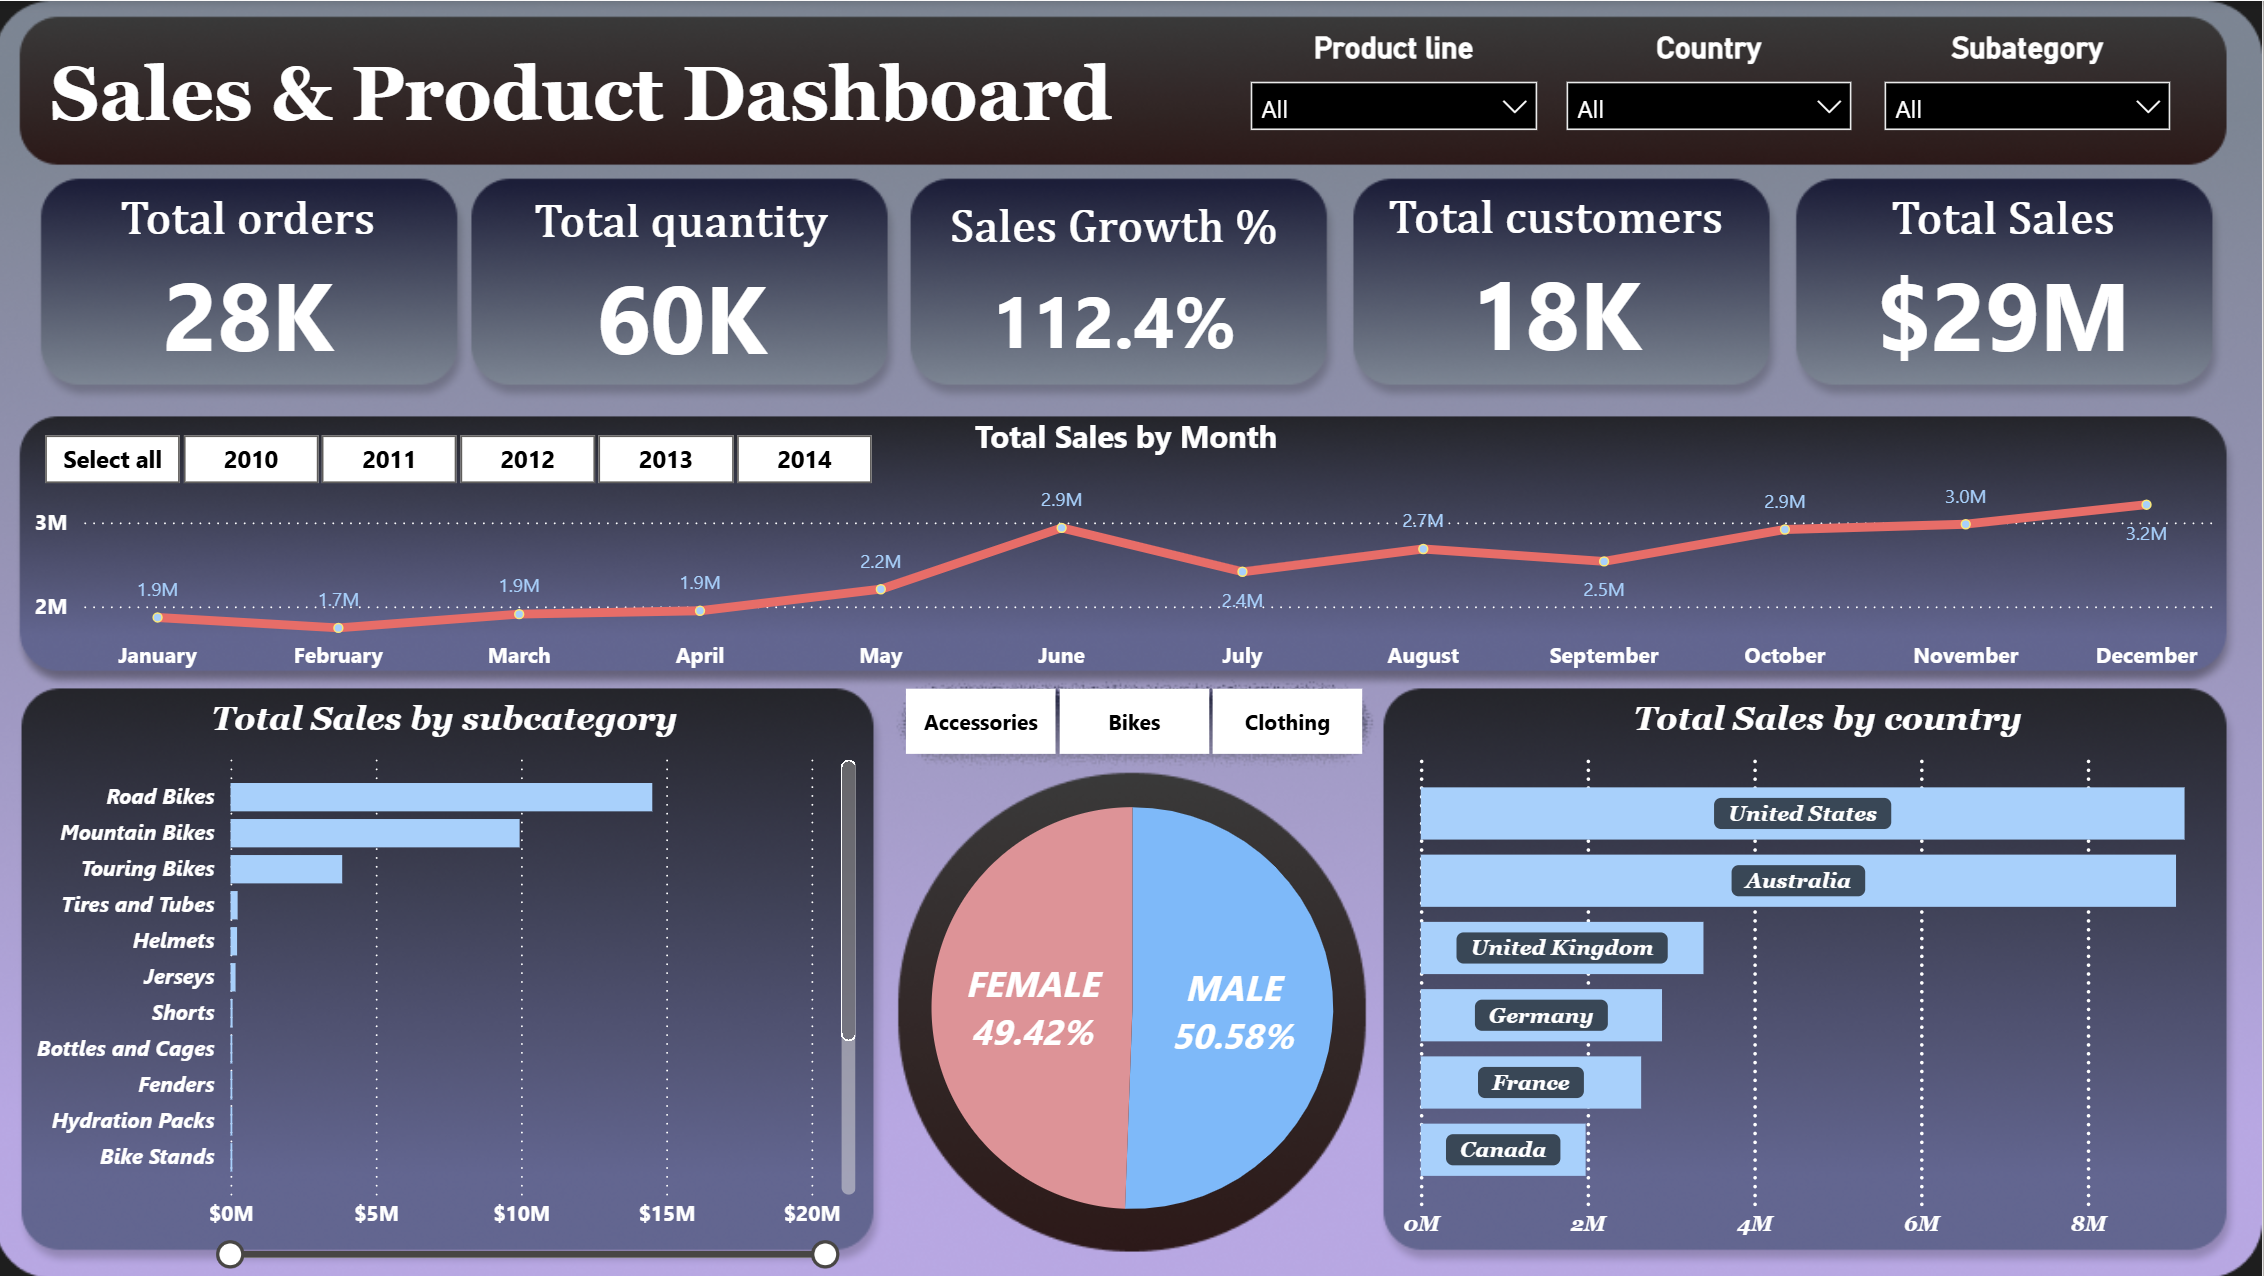

This screenshot's page, from the dashboard's own definition file:
{"tool":"powerbi","page":{"name":"Page 3","canvas":[1280,720],"ordinal":2},"visuals":[{"type":"cardVisual","fields":{"Data":["Measures_8.Total orders"]},"box":[16.9,91.5,252.4,142.3],"z":0},{"type":"cardVisual","fields":{"Data":["Measures_8.Total quantity"]},"box":[260.5,92.8,253.6,141.3],"z":1000},{"type":"cardVisual","fields":{"Data":["Measures_8.Total Sales"]},"box":[1007.6,90.9,252.5,142.4],"z":2000},{"type":"cardVisual","fields":{"Data":["Measures_8.Total customers"]},"box":[755.2,91.5,252.2,141.3],"z":3000},{"type":"cardVisual","fields":{"Data":["Measures_8.Sales Growth %"]},"box":[503,91,258,141.5],"z":4000},{"type":"pieChart","title":"Gender Distribution","fields":{"Category":["GolD dim_customers.gender"],"Y":["Measures_8.Total customers"]},"box":[349.2,415.1,584.8,304.9],"z":5000},{"type":"slicer","title":"Categoey","fields":{"Values":["GolD dim_products.category"]},"box":[487.7,380,307.7,50.8],"z":6000},{"type":"lineChart","fields":{"Y":["Measures_8.Total Sales"],"Category":["GolD fact_sales.order_date.Variation.Date Hierarchy.Month"]},"box":[16.7,233.3,1243.3,153.3],"z":7000},{"type":"slicer","fields":{"Values":["GolD fact_sales.order_date.Variation.Date Hierarchy.Year"]},"box":[2.5,238,516.5,39.5],"z":8000},{"type":"barChart","fields":{"Category":["GolD dim_products.subcategory"],"Y":["Measures_8.Total Sales"]},"box":[16.6,393.6,473.9,324.3],"z":9000},{"type":"barChart","fields":{"Category":["GolD dim_customers.country"],"Y":["Measures_8.Total Sales"]},"box":[788,393.6,491.9,311.8],"z":9001},{"type":"textbox","box":[16.6,22.2,1017.2,70.7],"z":9002},{"type":"slicer","title":"Product line","fields":{"Values":["GolD dim_products.product_line"]},"box":[698.5,16.9,181.5,150.8],"z":9003},{"type":"slicer","title":"Country","fields":{"Values":["GolD dim_customers.country"]},"box":[877.7,16.9,180.8,156.2],"z":9004},{"type":"slicer","title":"Subategory","fields":{"Values":["GolD dim_products.subcategory"]},"box":[1057,16.9,181.2,150.7],"z":9005}]}

Visuals, with their boxes in screenshot pixels (x1, y1, x2, y2), scaled from the page's 1280x720 canvas onto the 2264x1276 screenshot:
cardVisual - Measures_8.Total orders: (x1=30, y1=162, x2=476, y2=414)
cardVisual - Measures_8.Total quantity: (x1=461, y1=164, x2=909, y2=415)
cardVisual - Measures_8.Total Sales: (x1=1782, y1=161, x2=2229, y2=413)
cardVisual - Measures_8.Total customers: (x1=1336, y1=162, x2=1782, y2=413)
cardVisual - Measures_8.Sales Growth %: (x1=890, y1=161, x2=1346, y2=412)
"Gender Distribution" pieChart: (x1=618, y1=736, x2=1652, y2=1275)
"Categoey" slicer: (x1=863, y1=673, x2=1407, y2=763)
lineChart - Measures_8.Total Sales x GolD fact_sales.order_date.Variation.Date Hierarchy.Month: (x1=30, y1=413, x2=2229, y2=685)
slicer - GolD fact_sales.order_date.Variation.Date Hierarchy.Year: (x1=4, y1=422, x2=918, y2=492)
barChart - GolD dim_products.subcategory x Measures_8.Total Sales: (x1=29, y1=698, x2=868, y2=1272)
barChart - GolD dim_customers.country x Measures_8.Total Sales: (x1=1394, y1=698, x2=2263, y2=1250)
textbox: (x1=29, y1=39, x2=1829, y2=165)
"Product line" slicer: (x1=1235, y1=30, x2=1556, y2=297)
"Country" slicer: (x1=1552, y1=30, x2=1872, y2=307)
"Subategory" slicer: (x1=1870, y1=30, x2=2190, y2=297)
